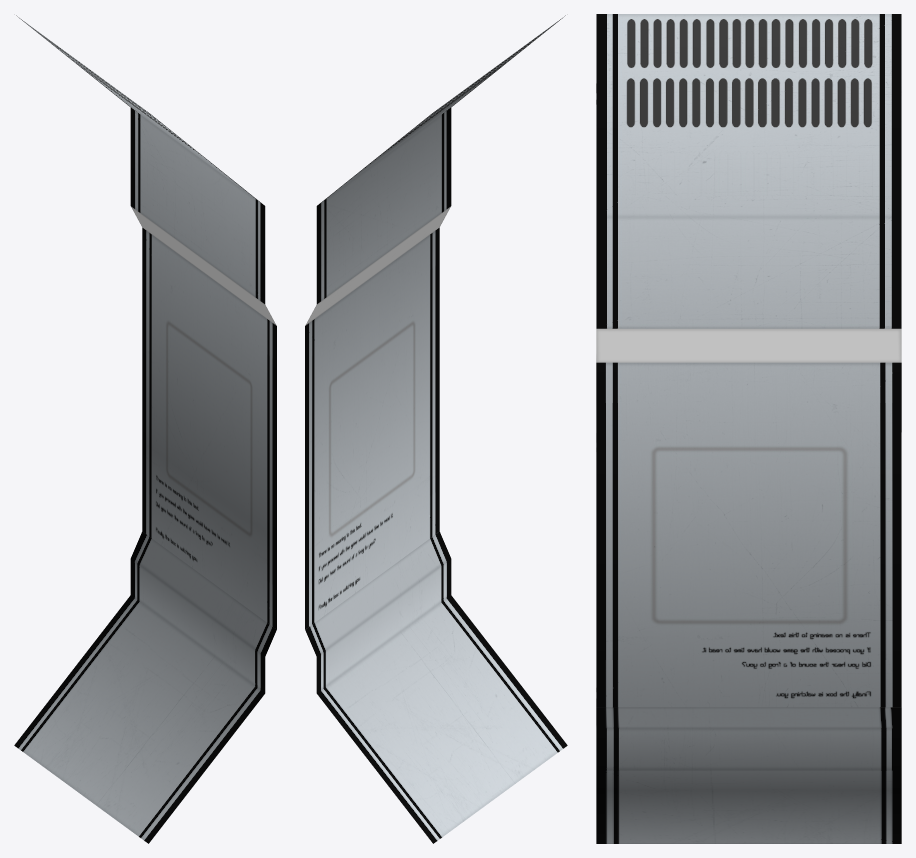
The model's file is wall1.fbx.
3 renders of one model, left to right at view 1: azimuth 30°, elevation 25°; view 2: azimuth 150°, elevation 25°; view 3: azimuth 270°, elevation 25°, orthographic. The views are drawn at different scales.
Visible parts, largest first — view 1: Cube; view 2: Cube; view 3: Cube.
Part boxes in pixels (x1=…): Cube: x1=14, y1=15, x2=276, y2=843; Cube: x1=305, y1=15, x2=567, y2=843; Cube: x1=596, y1=14, x2=901, y2=843.
Bounding box in the file's own units: 1.1 × 6 × 2.
